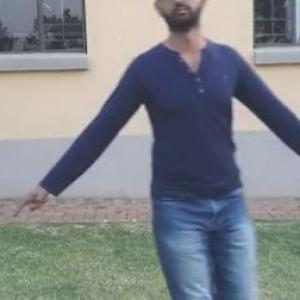land: (75, 2, 299, 299)
